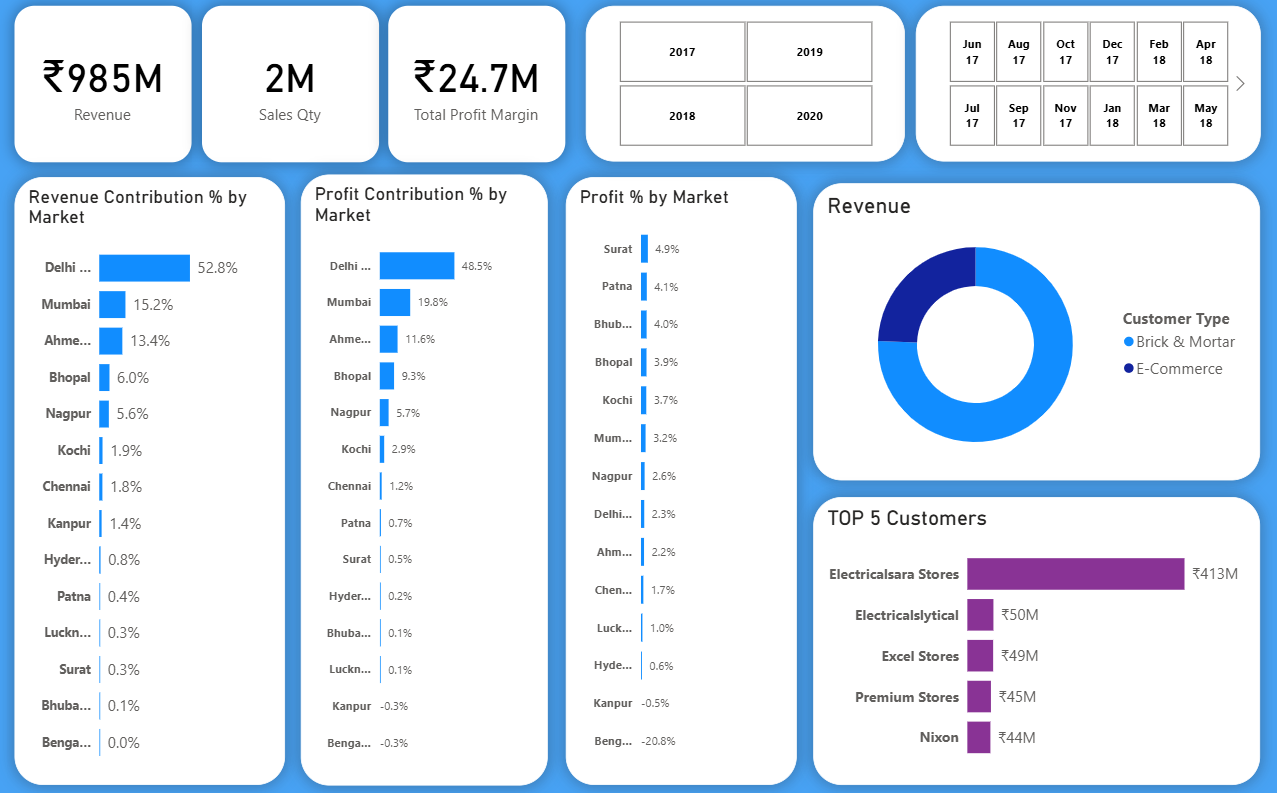

This screenshot's page, from the dashboard's own definition file:
{"tool":"powerbi","page":{"name":"Revenue","canvas":[1350,850],"ordinal":1},"visuals":[{"type":"card","fields":{"Values":["BaseMeasures.Revenue"]},"box":[18.5,9.2,186.2,165],"z":0},{"type":"card","fields":{"Values":["BaseMeasures.Sales Qty"]},"box":[216,9.2,186.2,165],"z":1000},{"type":"barChart","title":"Profit % by Market","fields":{"Y":["BaseMeasures.Profit Margin %"],"Category":["sales markets.markets_name"]},"box":[598.6,190,242.9,640],"z":2000},{"type":"barChart","title":"Revenue Contribution % by Market","fields":{"Category":["sales markets.markets_name"],"Y":["BaseMeasures.Revenue Contribution %"]},"box":[18.6,189.6,285,640],"z":4000},{"type":"slicer","fields":{"Values":["sales date.year"]},"box":[620,8.6,335.7,164.3],"z":5000},{"type":"slicer","fields":{"Values":["sales date.cy_date"]},"box":[967.1,8.6,362.9,164.3],"z":6000},{"type":"card","fields":{"Values":["BaseMeasures.Total_Profit_Margin"]},"box":[412.2,9.2,186.2,165],"z":8000},{"type":"barChart","title":"Profit Contribution % by Market","fields":{"Y":["BaseMeasures.Profit Margin Contribution %"],"Category":["sales markets.markets_name"]},"box":[320.3,186.3,260,643.3],"z":9000},{"type":"donutChart","title":"Revenue","fields":{"Series":["sales customers.customer_type"],"Y":["BaseMeasures.Revenue"]},"box":[859.8,196.5,470,312.9],"z":10000},{"type":"barChart","title":"TOP 5 Customers","fields":{"Category":["sales customers.custmer_name"],"Y":["BaseMeasures.Revenue"]},"box":[859.8,526.5,470,302.9],"z":11000}]}

Visuals, with their boxes in screenshot pixels (x1, y1, x2, y2), scaled from the page's 1350x850 canvas onto the 1277x793 screenshot:
card - BaseMeasures.Revenue: (17,9,194,163)
card - BaseMeasures.Sales Qty: (204,9,380,163)
"Profit % by Market" barChart: (566,177,796,774)
"Revenue Contribution % by Market" barChart: (18,177,287,774)
slicer - sales date.year: (586,8,904,161)
slicer - sales date.cy_date: (915,8,1258,161)
card - BaseMeasures.Total_Profit_Margin: (390,9,566,163)
"Profit Contribution % by Market" barChart: (303,174,549,774)
"Revenue" donutChart: (813,183,1258,475)
"TOP 5 Customers" barChart: (813,491,1258,774)
